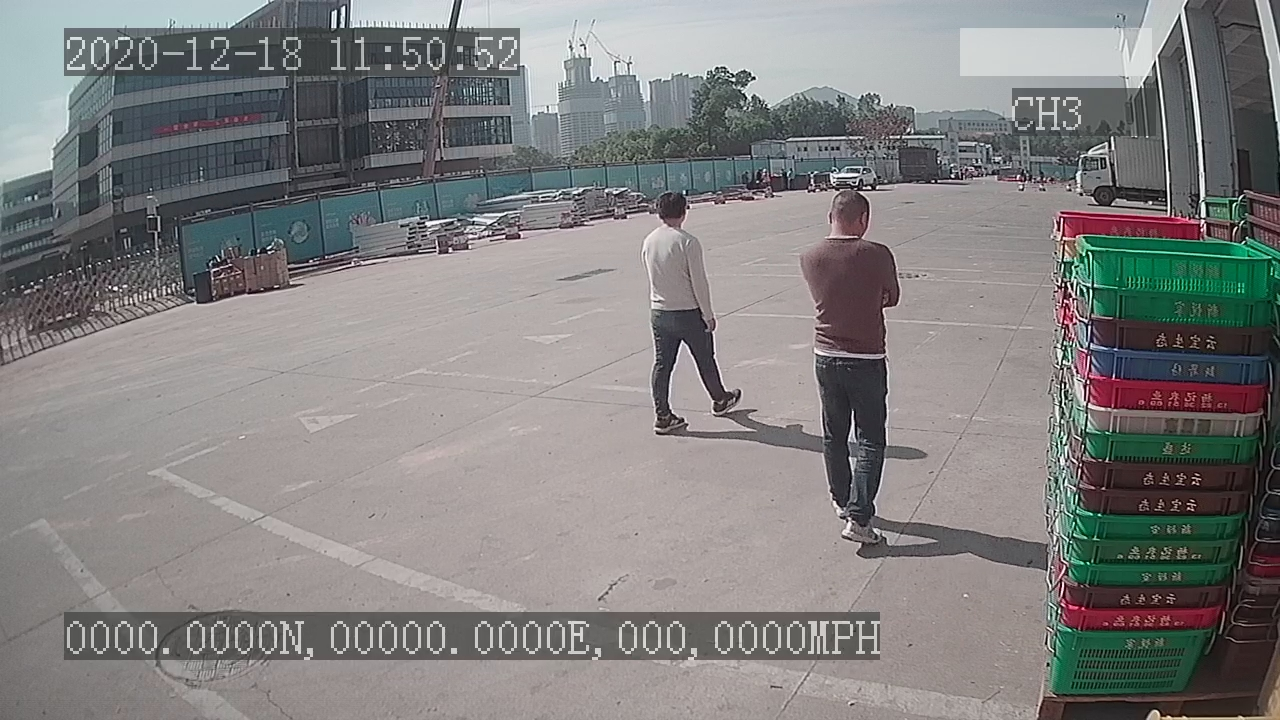person: (793, 183, 902, 551), (634, 190, 747, 436)
